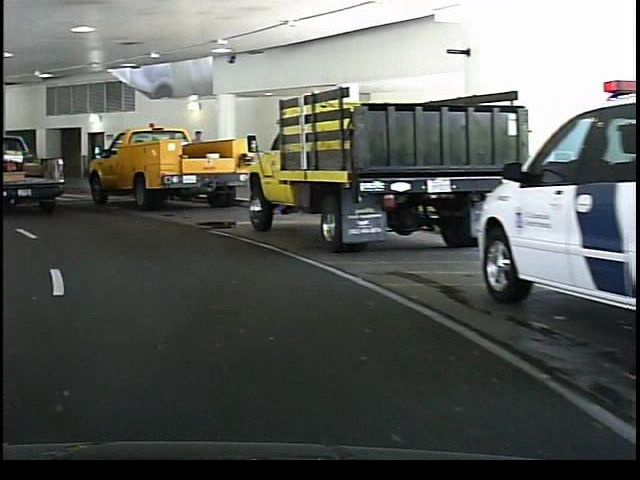person: (186, 125, 209, 195)
